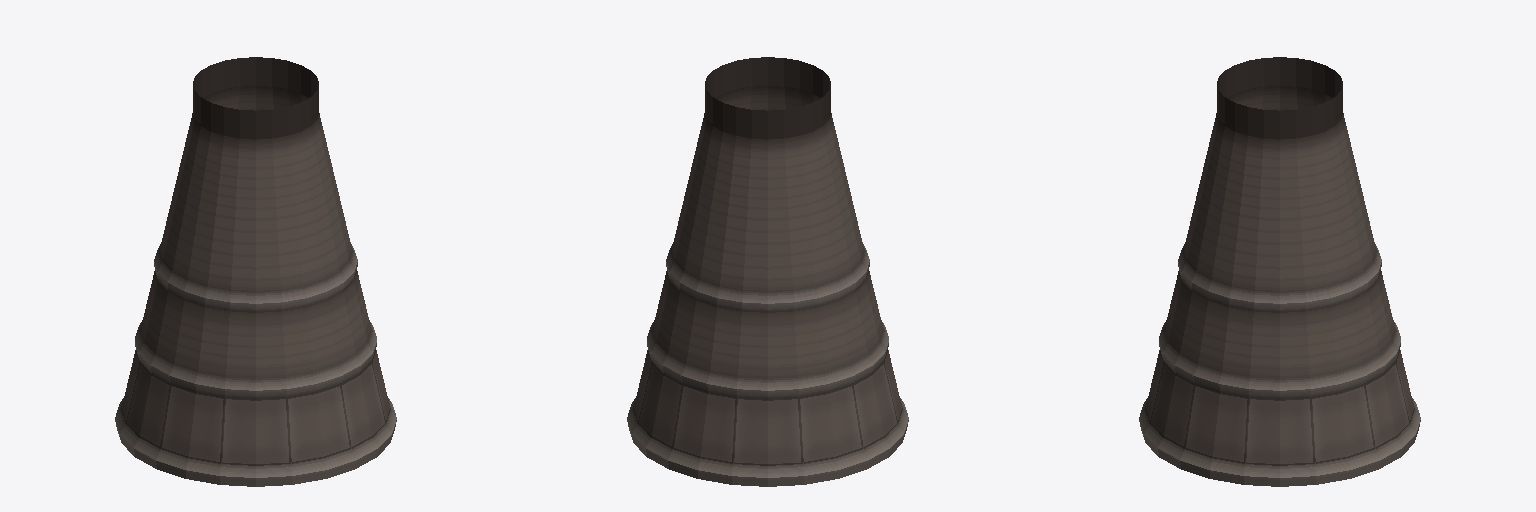
The picture shows the model from 3 angles: view 1: azimuth 30°, elevation 25°; view 2: azimuth 150°, elevation 25°; view 3: azimuth 270°, elevation 25°; orthographic projection.
Parts seen in each view (by area): view 1: Knight_Motor_A_Nozzle; view 2: Knight_Motor_A_Nozzle; view 3: Knight_Motor_A_Nozzle.
Boxes of the visible parts, x1,y1,x2,y2 form: Knight_Motor_A_Nozzle: [115, 57, 396, 486]; Knight_Motor_A_Nozzle: [627, 57, 908, 486]; Knight_Motor_A_Nozzle: [1139, 57, 1420, 486].
Size of the model in its own units: 0.6686 by 0.9 by 0.6686.
Materials: 1 (1 with a texture image).